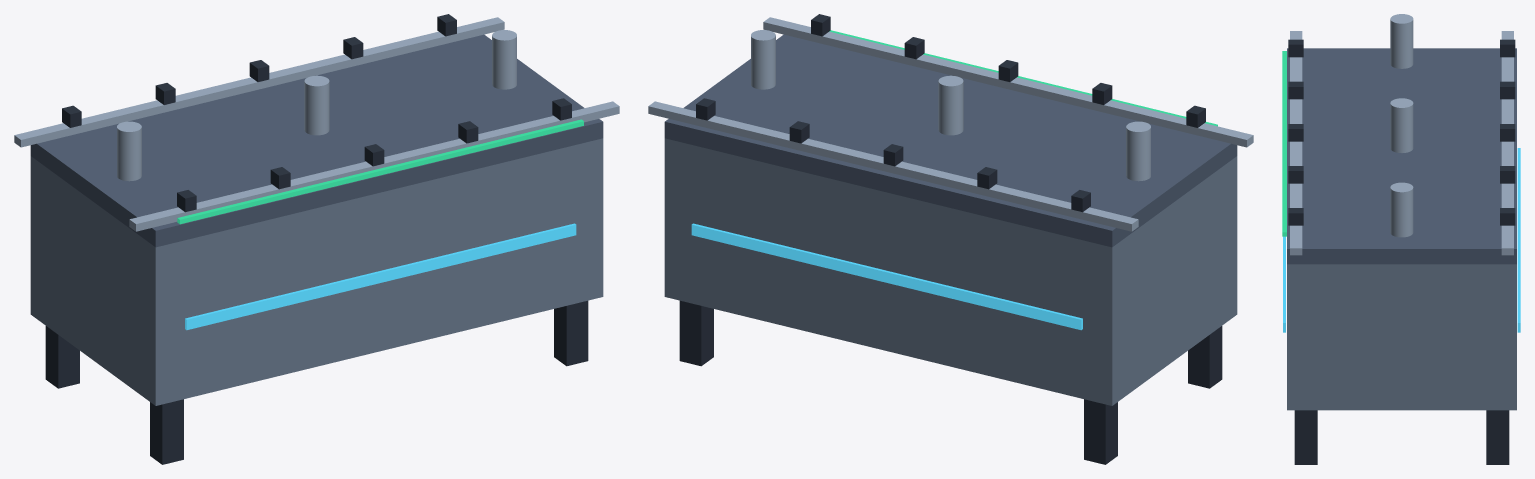
File: tdo.glb
3 views of the same model, side by side, from view 1: azimuth 30°, elevation 25°; view 2: azimuth 150°, elevation 25°; view 3: azimuth 270°, elevation 25° (orthographic). The views are drawn at different scales.
Size of the model in its own units: 228 by 130 by 106.
